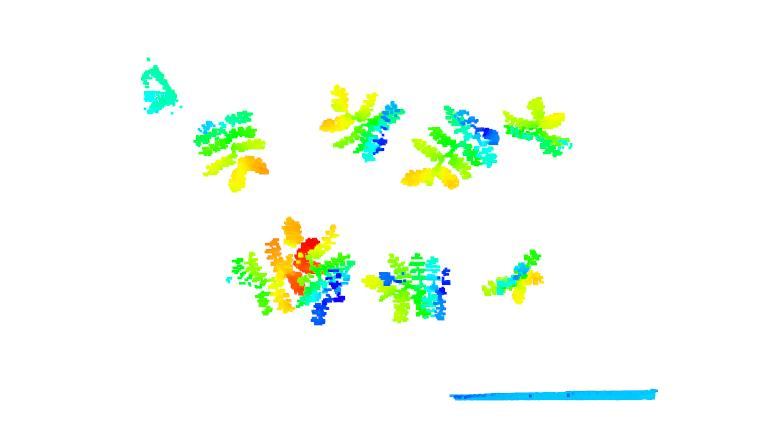chickpea: (229, 217, 320, 319), (399, 103, 501, 191), (357, 252, 452, 325), (317, 84, 404, 163), (297, 220, 361, 327), (193, 107, 272, 193), (501, 94, 574, 161), (475, 249, 548, 305)
